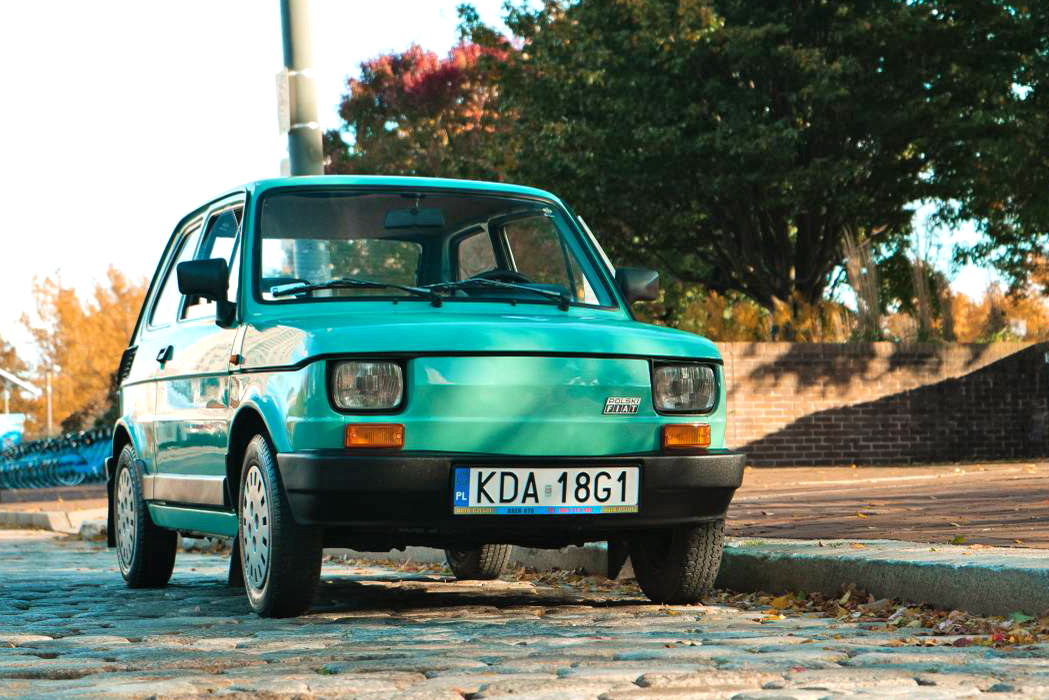number_plate: (452, 467, 641, 515)
